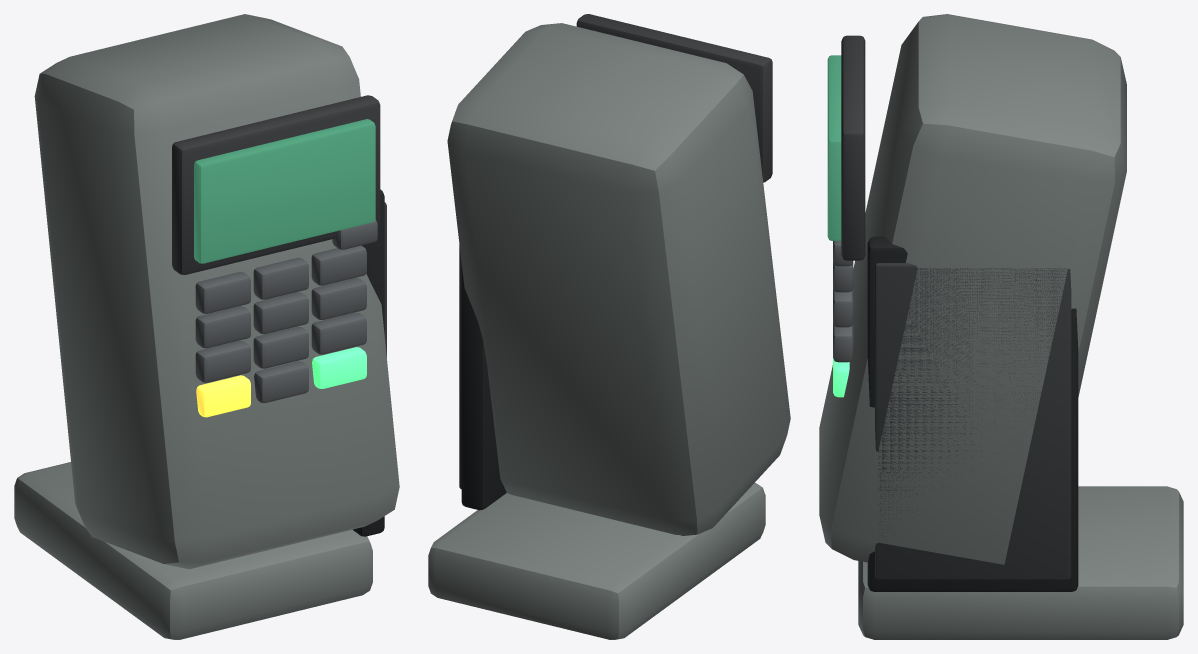
The model's file is card_reader_municipal.glb.
3 views of the same model, side by side, from view 1: azimuth 30°, elevation 25°; view 2: azimuth 150°, elevation 25°; view 3: azimuth 270°, elevation 25° (orthographic). The views are drawn at different scales.
Parts seen in each view (by area): view 1: Reader_Shell, Reader_Stand, Terminal_Screen, Reader_ScreenFrame, Terminal_Key_9, Terminal_Key_8, Terminal_Key_1, Terminal_Key_2, Terminal_Key_4, Terminal_Key_5, Terminal_Key_7, Terminal_Key_6 (+6 smaller); view 2: Reader_Shell, Reader_Stand, Reader_SwipeRailOuter, Reader_ScreenFrame, Reader_SwipeRailInner; view 3: Reader_Shell, Reader_SwipeRailInner, Reader_Stand, Reader_SwipeRailOuter, Reader_ScreenFrame, Terminal_Screen, Terminal_Key_6, Terminal_Key_9, Terminal_Key_3, Terminal_ConfirmButton.
Boxes of the visible parts, x1,y1,x2,y2 form: Reader_Shell: [34, 14, 399, 569]; Reader_Stand: [14, 462, 372, 639]; Terminal_Screen: [194, 119, 375, 263]; Reader_ScreenFrame: [172, 95, 380, 274]; Terminal_Key_9: [311, 312, 366, 354]; Terminal_Key_8: [253, 326, 308, 368]; Terminal_Key_1: [195, 272, 250, 313]; Terminal_Key_2: [253, 257, 308, 299]; Terminal_Key_4: [195, 306, 250, 348]; Terminal_Key_5: [253, 292, 308, 334]; Terminal_Key_7: [195, 341, 250, 382]; Terminal_Key_6: [311, 278, 366, 319]; Reader_Shell: [447, 23, 790, 535]; Reader_Stand: [428, 483, 765, 639]; Reader_SwipeRailOuter: [461, 265, 506, 510]; Reader_ScreenFrame: [576, 14, 772, 182]; Reader_SwipeRailInner: [459, 245, 461, 489]; Reader_Shell: [819, 14, 1126, 564]; Reader_SwipeRailInner: [875, 263, 1071, 579]; Reader_Stand: [858, 486, 1183, 639]; Reader_SwipeRailOuter: [867, 236, 1078, 591]; Reader_ScreenFrame: [841, 35, 865, 260]; Terminal_Screen: [827, 55, 841, 240]; Terminal_Key_6: [833, 288, 853, 327]; Terminal_Key_9: [833, 323, 853, 362]; Terminal_Key_3: [833, 262, 853, 292]; Terminal_ConfirmButton: [833, 358, 849, 397].
Size of what is drawn, in the model's own units: 0.084 by 0.1727 by 0.1066.
